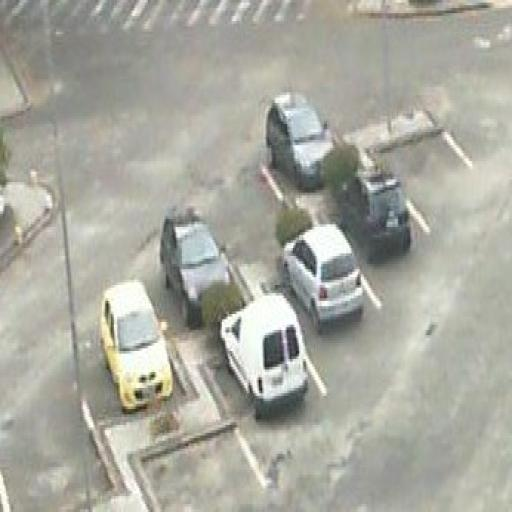car: (219, 293, 311, 425), (98, 277, 174, 414), (158, 203, 237, 330), (283, 219, 367, 333), (263, 87, 342, 193), (334, 166, 413, 269)
